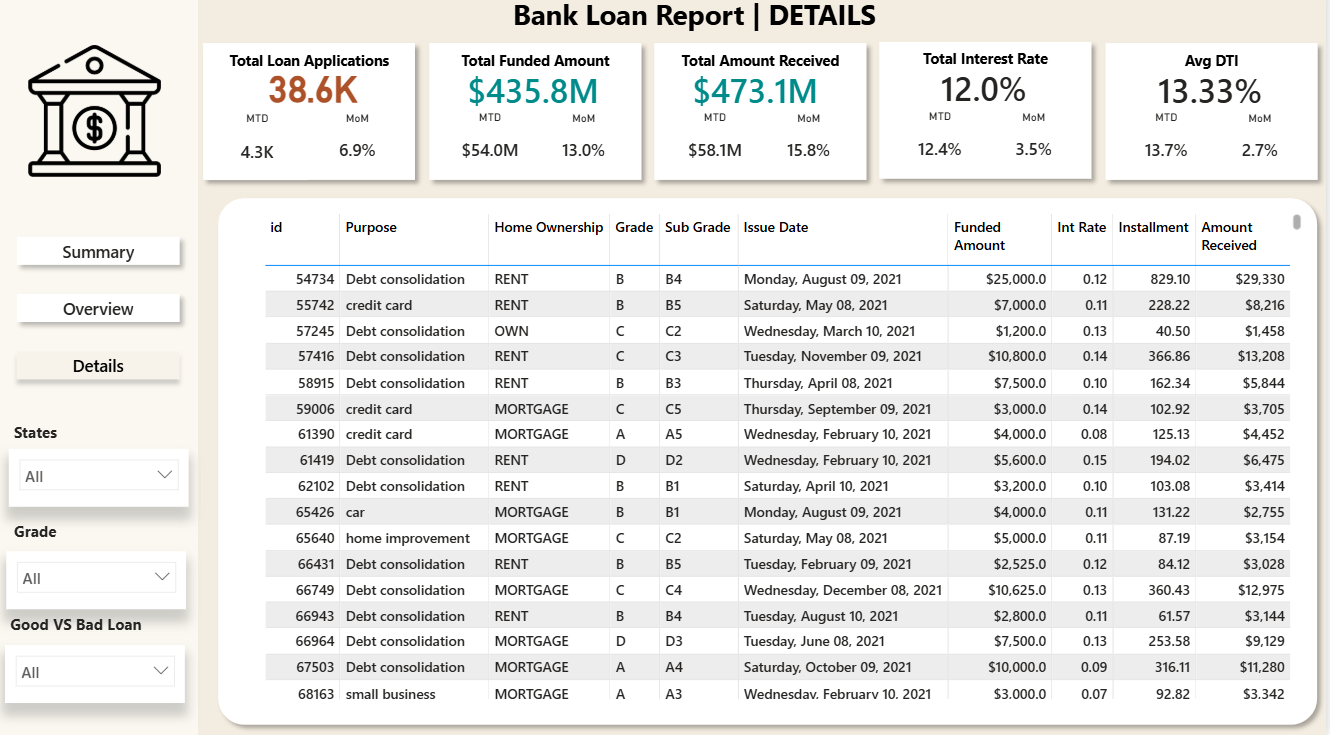

Layout of this report page (visuals, bound fields, positions):
{"tool":"powerbi","page":{"name":"Details","canvas":[1280,720],"ordinal":2},"visuals":[{"type":"shape","box":[0,0,1088.8,55],"z":0},{"type":"slicer","fields":{"Values":["bank_loan_data.address_state"]},"box":[8.8,442.4,173.8,56.2],"z":0,"group":"g6"},{"type":"shape","box":[0,0,191.2,720],"z":1000},{"type":"shape","box":[840,41.2,222.5,150],"z":1000,"group":"g4"},{"type":"shape","box":[187.5,42.5,222.5,150],"z":1000,"group":"g1"},{"type":"shape","box":[405,42.5,222.5,150],"z":1000,"group":"g2"},{"type":"shape","box":[622.5,42.5,222.5,150],"z":1000,"group":"g3"},{"type":"shape","box":[1057.5,42.5,222.5,150],"z":1000,"group":"g5"},{"type":"textbox","box":[8.8,411.2,167.5,35],"z":1000,"group":"g6"},{"type":"textbox","box":[463.3,0,413.8,63.9],"z":2000},{"type":"group","id":"g1","title":"Group 1","box":[187.5,42.5,222.5,150],"z":3000},{"type":"group","id":"g2","title":"Group 1","box":[405,42.5,222.5,150],"z":4000},{"type":"cardVisual","fields":{"Data":["bank_loan_data.Avg Interest Rate"]},"box":[857.2,58.1,186.2,71.2],"z":4000,"group":"g4"},{"type":"cardVisual","fields":{"Data":["bank_loan_data.Total Funded Amount"]},"box":[422.2,59.4,186.2,71.2],"z":4000,"group":"g2"},{"type":"cardVisual","fields":{"Data":["bank_loan_data.Totl Amount Recived"]},"box":[639.7,59.4,186.2,71.2],"z":4000,"group":"g3"},{"type":"cardVisual","fields":{"Data":["bank_loan_data.Avg DTI"]},"box":[1074.7,59.4,186.2,71.2],"z":4000,"group":"g5"},{"type":"cardVisual","fields":{"Data":["bank_loan_data.Total Loan Application"]},"box":[225,60,155,68.8],"z":4000,"group":"g1"},{"type":"group","id":"g3","title":"Group 1","box":[622.5,42.5,222.5,150],"z":5000},{"type":"textbox","box":[853.3,51.7,196.2,34.8],"z":5000,"group":"g4"},{"type":"textbox","box":[200.8,53,196.2,34.8],"z":5000,"group":"g1"},{"type":"textbox","box":[418.3,53,196.2,34.8],"z":5000,"group":"g2"},{"type":"textbox","box":[635.8,53,196.2,34.8],"z":5000,"group":"g3"},{"type":"textbox","box":[1070.8,53,196.2,34.8],"z":5000,"group":"g5"},{"type":"group","id":"g4","title":"Group 1","box":[840,41.2,222.5,150],"z":6000},{"type":"cardVisual","title":"MTD","fields":{"Data":["bank_loan_data.MTD AVG Interest Rate"]},"box":[851.2,114.3,113.8,66.2],"z":6000,"group":"g4"},{"type":"cardVisual","title":"MTD","fields":{"Data":["bank_loan_data.MTD Funded Amount"]},"box":[416.2,115.6,113.8,66.2],"z":6000,"group":"g2"},{"type":"cardVisual","title":"MTD","fields":{"Data":["bank_loan_data.MTD Total Amount Recived"]},"box":[633.7,115.6,113.8,66.2],"z":6000,"group":"g3"},{"type":"cardVisual","title":"MTD","fields":{"Data":["bank_loan_data.MTD Avg DTI"]},"box":[1068.7,115.6,113.8,66.2],"z":6000,"group":"g5"},{"type":"cardVisual","title":"MTD","fields":{"Data":["bank_loan_data.MTD Loan Application"]},"box":[200,117.5,98.8,66.2],"z":6000,"group":"g1"},{"type":"group","id":"g5","title":"Group 1","box":[1057.5,42.5,222.5,150],"z":7000},{"type":"cardVisual","title":"MoM","fields":{"Data":["bank_loan_data.MoM AVG Interest Rate"]},"box":[943.8,116.2,108.8,63.8],"z":7000,"group":"g4"},{"type":"cardVisual","title":"MoM","fields":{"Data":["bank_loan_data.MoM Loan Application"]},"box":[291.3,117.5,108.8,63.8],"z":7000,"group":"g1"},{"type":"cardVisual","title":"MoM","fields":{"Data":["bank_loan_data.MoM Funded Amount"]},"box":[508.8,117.5,108.8,63.8],"z":7000,"group":"g2"},{"type":"cardVisual","title":"MoM","fields":{"Data":["bank_loan_data.MoM Total Amount Recived"]},"box":[726.3,117.5,108.8,63.8],"z":7000,"group":"g3"},{"type":"cardVisual","title":"MoM","fields":{"Data":["bank_loan_data.MoM Avg DTI"]},"box":[1161.3,117.5,108.8,63.8],"z":7000,"group":"g5"},{"type":"slicer","fields":{"Values":["bank_loan_data.grade"]},"box":[6.2,541.2,173.8,56.2],"z":8000},{"type":"textbox","box":[5,597.5,167.5,35],"z":9000},{"type":"textbox","box":[8.8,506.2,167.5,35],"z":10000},{"type":"slicer","fields":{"Values":["bank_loan_data.Good VS Bad Loan"]},"box":[5,632.5,173.8,56.2],"z":11000},{"type":"group","id":"g6","title":"Group 2","box":[8.8,411.2,173.8,87.5],"z":12000},{"type":"shape","box":[201.2,191.2,1078.8,526.2],"z":15000},{"type":"tableEx","fields":{"Values":["bank_loan_data.id","bank_loan_data.purpose","bank_loan_data.home_ownership","bank_loan_data.grade","bank_loan_data.sub_grade","bank_loan_data.issue_date","bank_loan_data.Total Funded Amount","Sum(bank_loan_data.int_rate)","Sum(bank_loan_data.installment)","bank_loan_data.Total Amount Received"]},"box":[250,211.2,1011.2,477.5],"z":16000},{"type":"pageNavigator","box":[7.5,228.8,175,155],"z":16001},{"type":"image","box":[15,52.5,153.8,127.5],"z":16002}]}

Visuals, with their boxes in screenshot pixels (x1, y1, x2, y2), scaled from the page's 1280x720 canvas onto the 1330x735 screenshot:
shape: [0, 0, 1131, 56]
slicer - bank_loan_data.address_state: [9, 452, 190, 509]
shape: [0, 0, 199, 734]
shape: [873, 42, 1104, 195]
shape: [195, 43, 426, 197]
shape: [421, 43, 652, 197]
shape: [647, 43, 878, 197]
shape: [1099, 43, 1329, 197]
textbox: [9, 420, 183, 455]
textbox: [481, 0, 911, 65]
"Group 1" group: [195, 43, 426, 197]
"Group 1" group: [421, 43, 652, 197]
cardVisual - bank_loan_data.Avg Interest Rate: [891, 59, 1084, 132]
cardVisual - bank_loan_data.Total Funded Amount: [439, 61, 632, 133]
cardVisual - bank_loan_data.Totl Amount Recived: [665, 61, 858, 133]
cardVisual - bank_loan_data.Avg DTI: [1117, 61, 1310, 133]
cardVisual - bank_loan_data.Total Loan Application: [234, 61, 395, 131]
"Group 1" group: [647, 43, 878, 197]
textbox: [887, 53, 1090, 88]
textbox: [209, 54, 413, 90]
textbox: [435, 54, 639, 90]
textbox: [661, 54, 864, 90]
textbox: [1113, 54, 1316, 90]
"Group 1" group: [873, 42, 1104, 195]
"MTD" cardVisual: [884, 117, 1003, 184]
"MTD" cardVisual: [432, 118, 551, 186]
"MTD" cardVisual: [658, 118, 777, 186]
"MTD" cardVisual: [1110, 118, 1229, 186]
"MTD" cardVisual: [208, 120, 310, 188]
"Group 1" group: [1099, 43, 1329, 197]
"MoM" cardVisual: [981, 119, 1094, 184]
"MoM" cardVisual: [303, 120, 416, 185]
"MoM" cardVisual: [529, 120, 642, 185]
"MoM" cardVisual: [755, 120, 868, 185]
"MoM" cardVisual: [1207, 120, 1320, 185]
slicer - bank_loan_data.grade: [6, 552, 187, 610]
textbox: [5, 610, 179, 646]
textbox: [9, 517, 183, 552]
slicer - bank_loan_data.Good VS Bad Loan: [5, 646, 186, 703]
"Group 2" group: [9, 420, 190, 509]
shape: [209, 195, 1329, 732]
tableEx - bank_loan_data.id x bank_loan_data.purpose: [260, 216, 1310, 703]
pageNavigator: [8, 234, 190, 392]
image: [16, 54, 175, 184]
